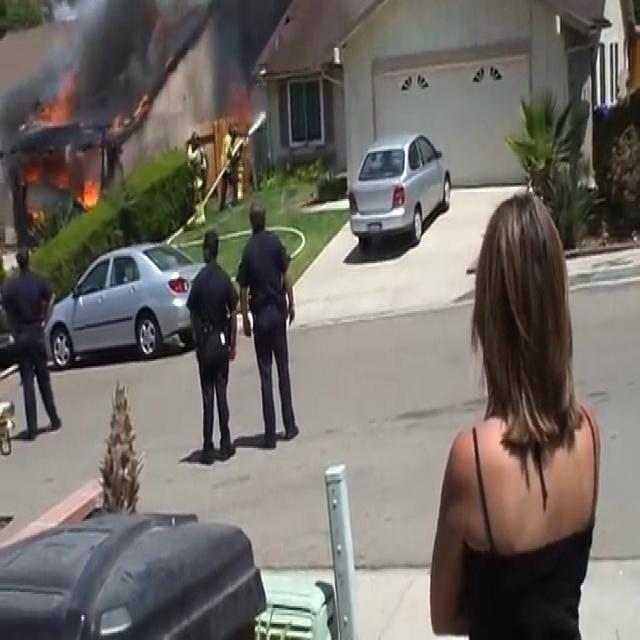Smoke: (42, 0, 283, 126)
